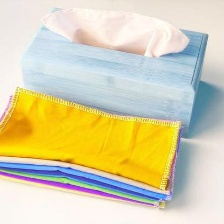tissue: (34, 0, 196, 63)
